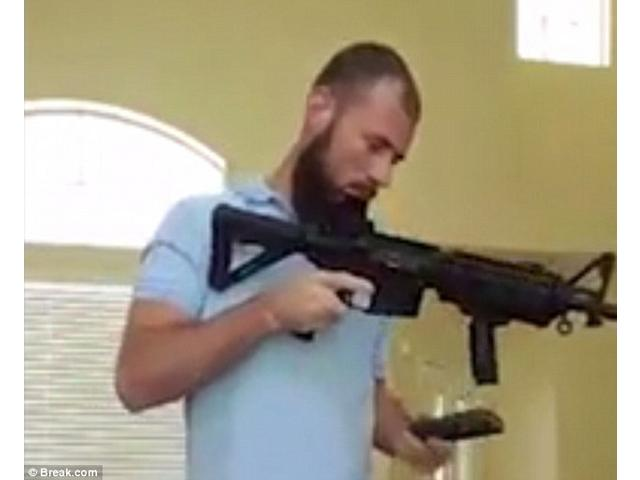rifle: (201, 203, 637, 393)
